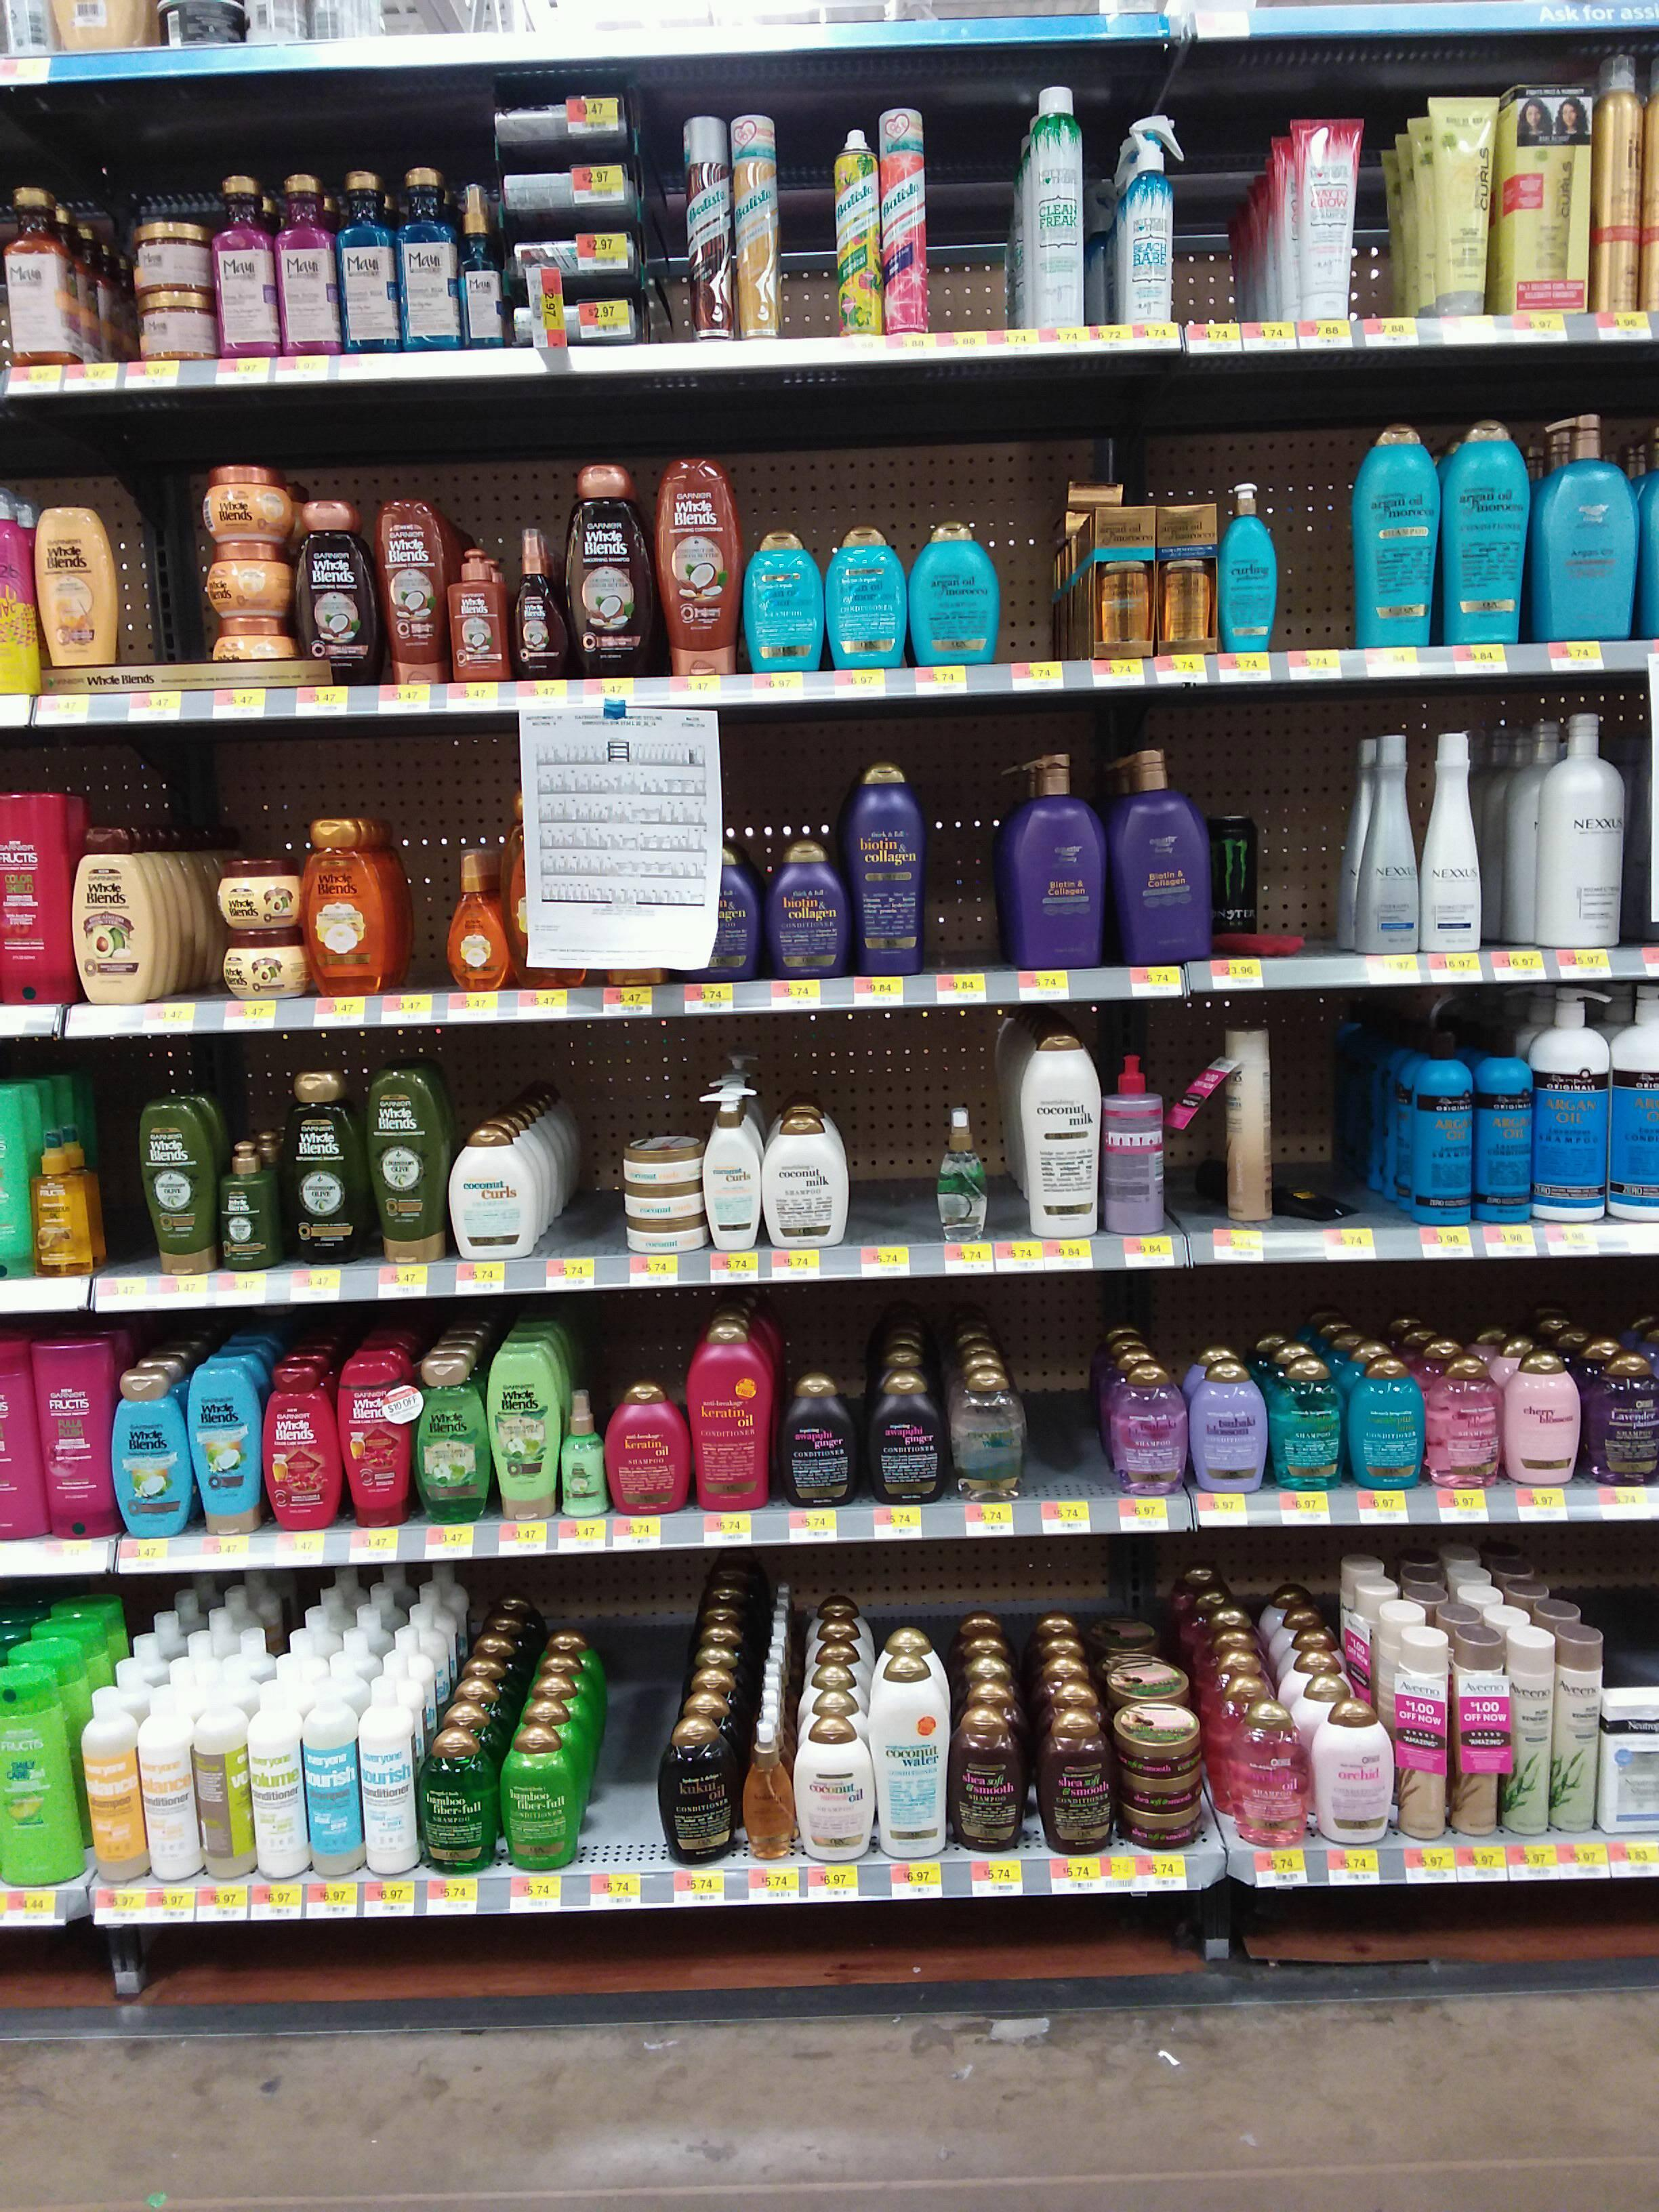empty: (579, 1658, 653, 1864), (1290, 1045, 1377, 1207), (1032, 1332, 1110, 1494), (1277, 489, 1356, 651), (854, 1087, 934, 1240), (552, 1106, 631, 1259), (119, 507, 197, 657), (999, 502, 1070, 660), (936, 167, 1007, 324), (1182, 158, 1253, 315), (924, 824, 999, 970), (1265, 798, 1340, 944), (781, 181, 842, 336)
